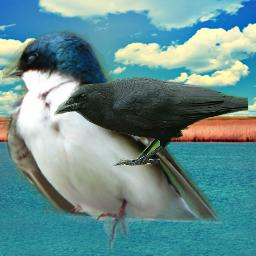Crow: (54, 77, 249, 168)
Swallow: (1, 28, 222, 253)
